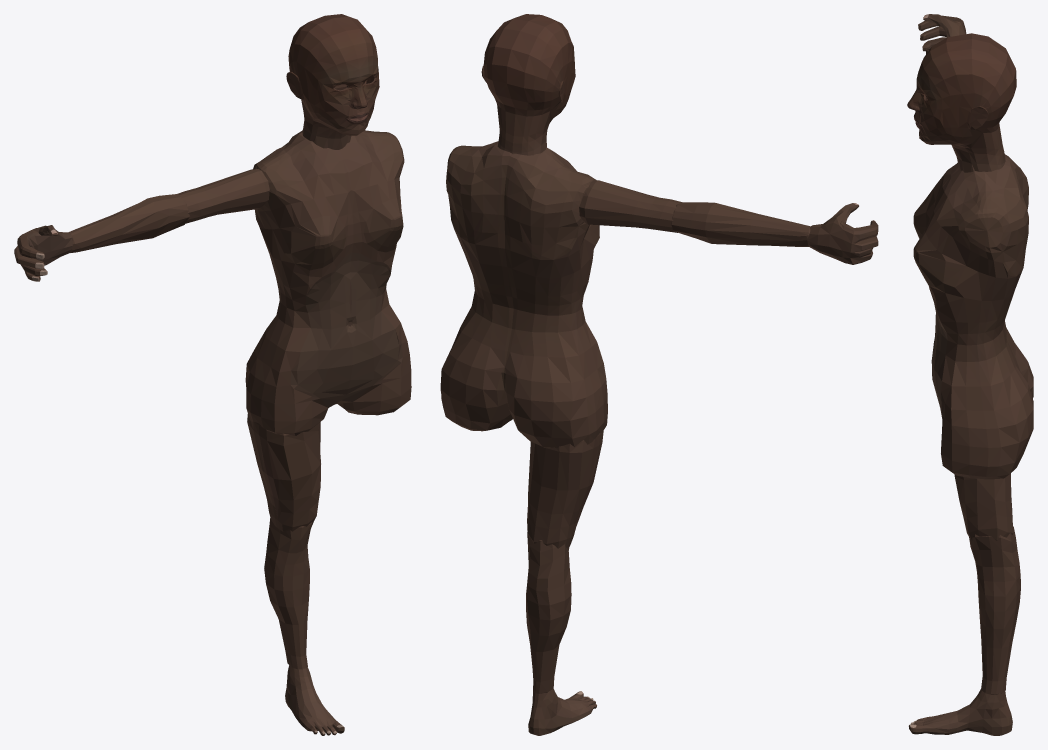
Rendered from baseSkinToneDarkFemale.glb.
The picture shows the model from 3 angles, left to right: view 1: azimuth 30°, elevation 25°; view 2: azimuth 150°, elevation 25°; view 3: azimuth 270°, elevation 25°; orthographic projection. The views are drawn at different scales.
Parts seen in each view (by area): view 1: nakedTorsoSkinToneDarkFemale, nakedHeadSkinToneDarkFemale, nakedUpperLegSkinToneDarkFemale, nakedLowerLegSkinToneDarkFemale, nakedLowerArmSkinToneDarkFemale, nakedUpperArmSkinToneDarkFemale, nakedFootSkinToneDarkFemale, nakedHandSkinToneDarkFemale; view 2: nakedTorsoSkinToneDarkFemale, nakedHeadSkinToneDarkFemale, nakedUpperLegSkinToneDarkFemale, nakedLowerLegSkinToneDarkFemale, nakedLowerArmSkinToneDarkFemale, nakedUpperArmSkinToneDarkFemale, nakedHandSkinToneDarkFemale, nakedFootSkinToneDarkFemale; view 3: nakedTorsoSkinToneDarkFemale, nakedHeadSkinToneDarkFemale, nakedLowerLegSkinToneDarkFemale, nakedUpperLegSkinToneDarkFemale, nakedFootSkinToneDarkFemale, nakedHandSkinToneDarkFemale.
Boxes of the visible parts, left/top/right/bottom form: nakedTorsoSkinToneDarkFemale: left=245, top=130, right=411, bottom=435; nakedHeadSkinToneDarkFemale: left=286, top=14, right=379, bottom=149; nakedUpperLegSkinToneDarkFemale: left=247, top=414, right=320, bottom=531; nakedLowerLegSkinToneDarkFemale: left=264, top=518, right=313, bottom=669; nakedLowerArmSkinToneDarkFemale: left=68, top=194, right=189, bottom=252; nakedUpperArmSkinToneDarkFemale: left=177, top=169, right=269, bottom=223; nakedFootSkinToneDarkFemale: left=285, top=665, right=344, bottom=735; nakedHandSkinToneDarkFemale: left=14, top=225, right=72, bottom=281; nakedTorsoSkinToneDarkFemale: left=440, top=141, right=607, bottom=447; nakedHeadSkinToneDarkFemale: left=481, top=14, right=575, bottom=155; nakedUpperLegSkinToneDarkFemale: left=527, top=431, right=603, bottom=548; nakedLowerLegSkinToneDarkFemale: left=526, top=532, right=571, bottom=693; nakedLowerArmSkinToneDarkFemale: left=671, top=202, right=810, bottom=246; nakedUpperArmSkinToneDarkFemale: left=579, top=180, right=681, bottom=232; nakedHandSkinToneDarkFemale: left=807, top=203, right=878, bottom=264; nakedFootSkinToneDarkFemale: left=528, top=689, right=596, bottom=735; nakedTorsoSkinToneDarkFemale: left=913, top=154, right=1033, bottom=479; nakedHeadSkinToneDarkFemale: left=907, top=33, right=1016, bottom=172; nakedLowerLegSkinToneDarkFemale: left=969, top=526, right=1020, bottom=694; nakedUpperLegSkinToneDarkFemale: left=954, top=473, right=1013, bottom=540; nakedFootSkinToneDarkFemale: left=908, top=688, right=1012, bottom=735; nakedHandSkinToneDarkFemale: left=918, top=14, right=966, bottom=53.
Size of the model in its own units: 1.15 by 1.87 by 0.3027.
